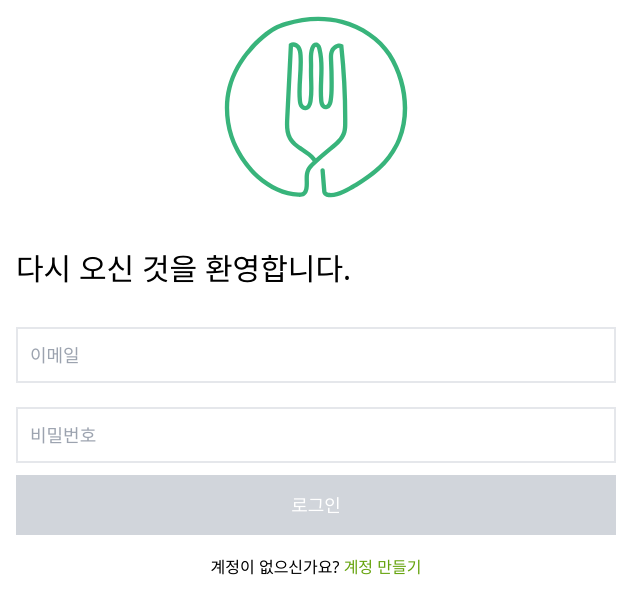
<Login /> › 이메일 유효성 검사의 오류를 표시해야 합니다.
// 이메일 형식이 잘못된 경우
Type "test@gmail" into the field with placeholder "이메일" at [316, 355], box [16,327,616,383]
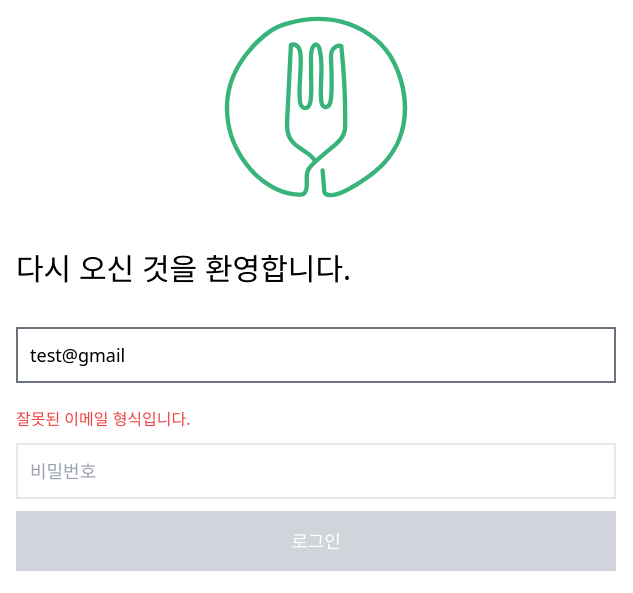
Result: the message reads "잘못된 이메일 형식입니다." at [16,408,190,430]
// 이메일을 입력하지 않았을 경우, input에서 모든 value 지우기
Clear the field with placeholder "이메일" at [316, 355], box [16,327,616,383]
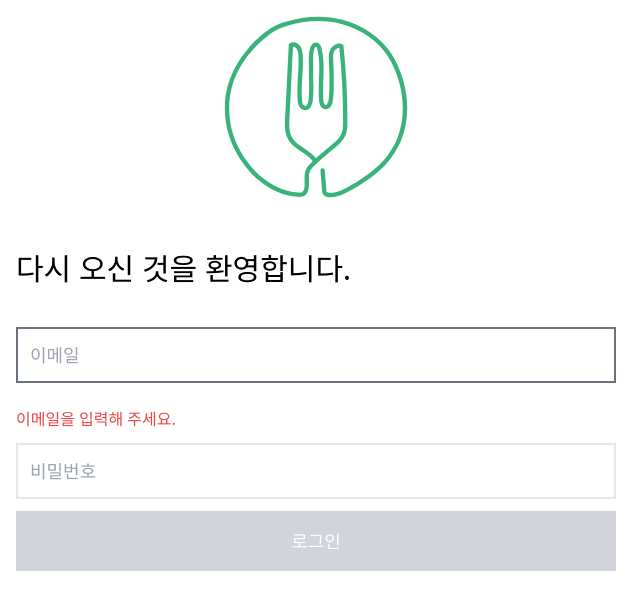
Result: the message reads "이메일을 입력해 주세요." at [16,408,176,430]
